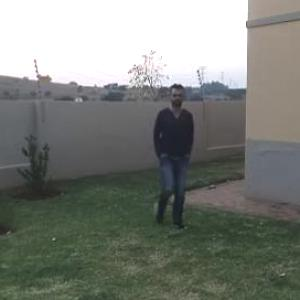follow: (152, 83, 199, 218)
